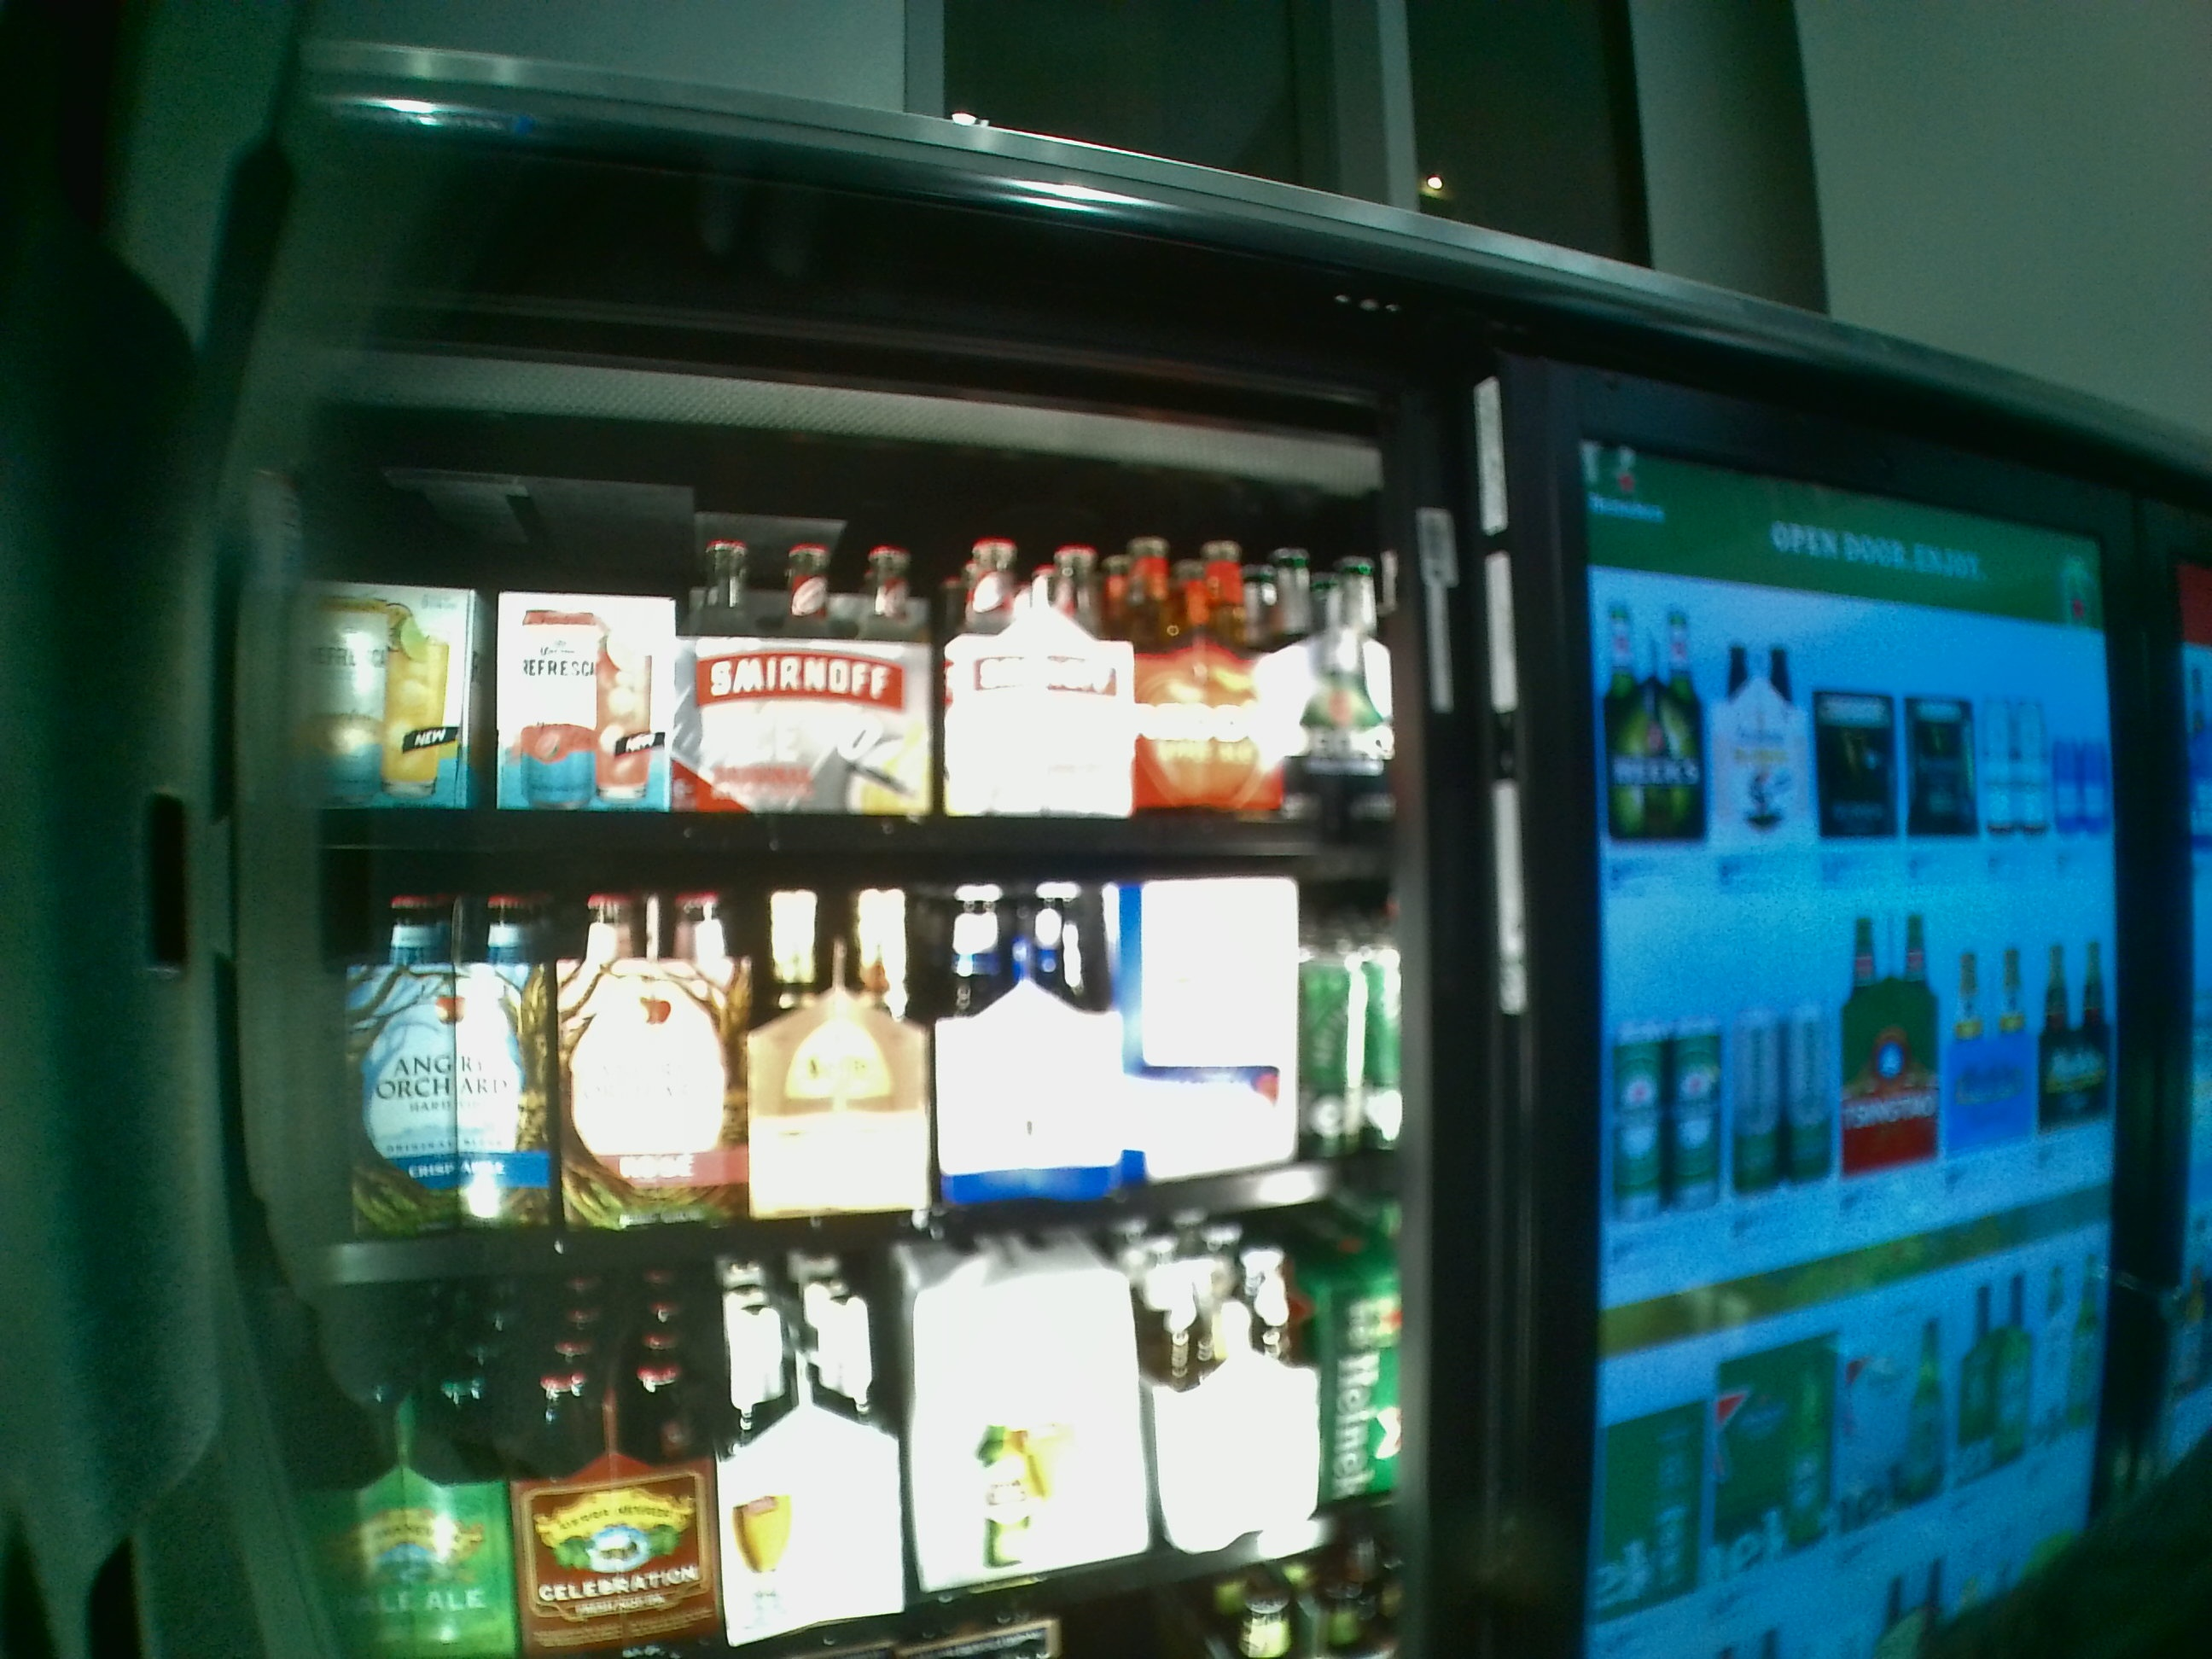shelf: (308, 870, 1399, 1288), (303, 490, 1393, 857)
